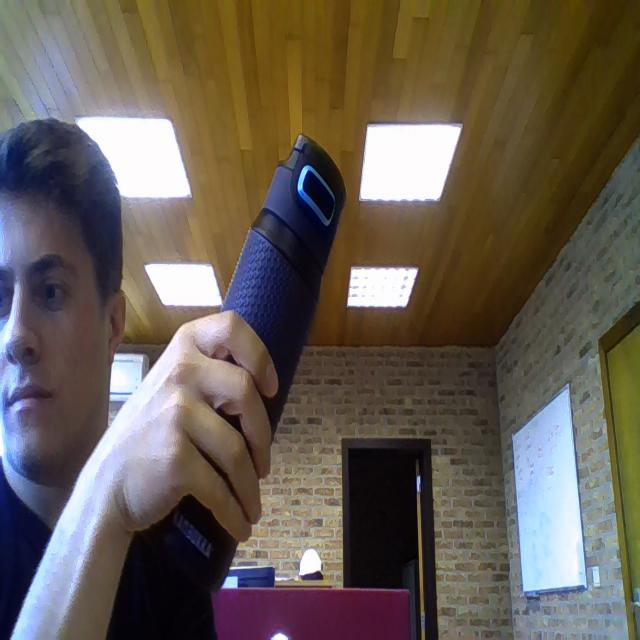bottle: (128, 102, 360, 635)
